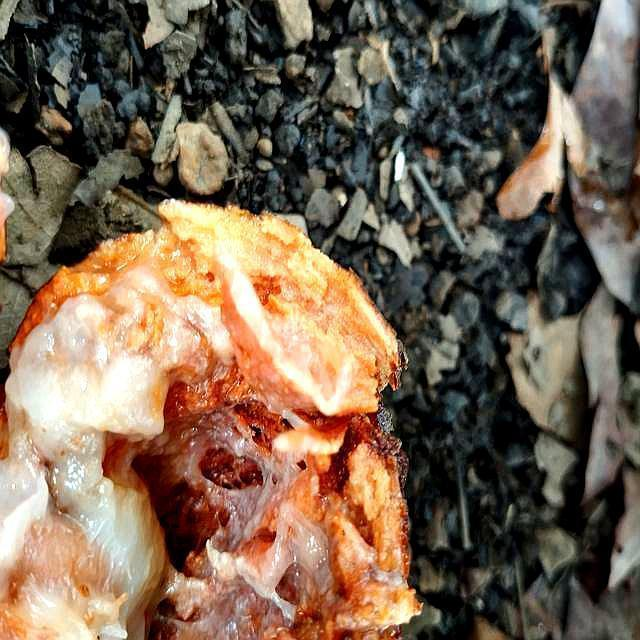Biodegradable: (1, 199, 413, 640)
